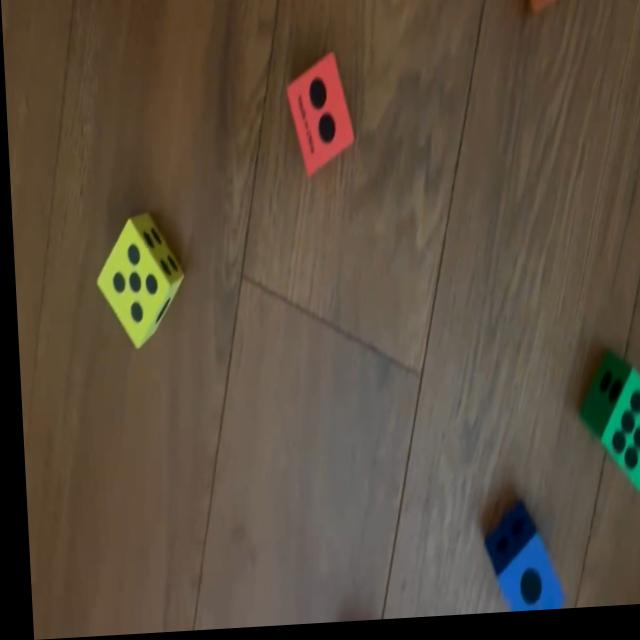blue_block: (477, 504, 556, 619)
red_block: (284, 56, 354, 181)
